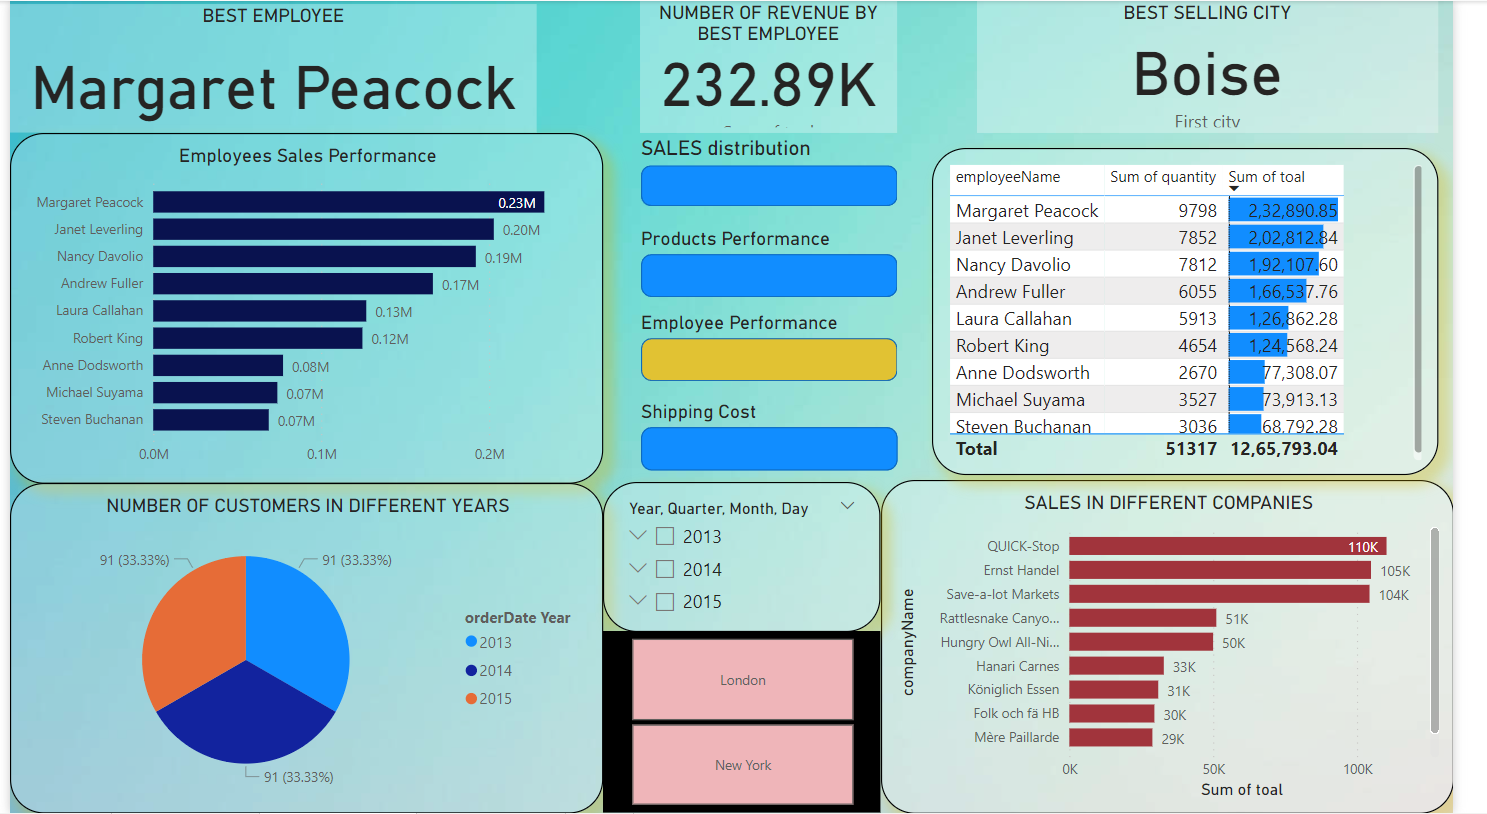

What the dashboard file says about the page in this screenshot:
{"tool":"powerbi","page":{"name":"Employee Dashboard","canvas":[1280,720],"ordinal":2},"visuals":[{"type":"shape","title":"SALES distribution","box":[559.6,119.8,227.5,62.2],"z":0},{"type":"shape","title":"Products Performance","box":[559.6,200.2,227.5,62.2],"z":1000},{"type":"shape","title":"Employee Performance","box":[559.6,274.5,227.5,62.2],"z":2000},{"type":"shape","title":"Shipping Cost","box":[559.8,353.6,227.6,62.6],"z":3000},{"type":"barChart","title":"Employees Sales Performance","fields":{"Category":["employees.employeeName"],"Y":["Sum(order_details.toal)"]},"box":[0,116.8,526.3,310.9],"z":4000},{"type":"barChart","title":"SALES IN DIFFERENT COMPANIES","fields":{"Category":["customers.companyName"],"Y":["Sum(order_details.toal)"]},"box":[771.9,424.6,508.1,295.7],"z":5000},{"type":"pieChart","title":"NUMBER OF CUSTOMERS IN DIFFERENT YEARS ","fields":{"Category":["orders.orderDate.Variation.Date Hierarchy.Year","orders.orderDate.Variation.Date Hierarchy.Quarter","orders.orderDate.Variation.Date Hierarchy.Month","orders.orderDate.Variation.Date Hierarchy.Day"],"Y":["Count(customers.customerID)"]},"box":[0,427.7,526.3,292.7],"z":6000},{"type":"tableEx","fields":{"Values":["employees.employeeName","Sum(order_details.quantity)","Sum(order_details.toal)"]},"box":[817.2,130.4,448.5,290.1],"z":7000},{"type":"card","title":"BEST EMPLOYEE","fields":{"Values":["Min(employees.employeeName)"]},"box":[0,2.7,467.1,114.5],"z":8000},{"type":"card","title":"NUMBER OF REVENUE BY BEST EMPLOYEE","fields":{"Values":["Sum(order_details.toal)"]},"box":[559,0,227.6,117.1],"z":9000},{"type":"card","title":"BEST SELLING CITY","fields":{"Values":["Min(customers.city)"]},"box":[857.1,0,408.6,117.1],"z":10000},{"type":"slicer","fields":{"Values":["orders.orderDate.Variation.Date Hierarchy.Year","orders.orderDate.Variation.Date Hierarchy.Quarter","orders.orderDate.Variation.Date Hierarchy.Month","orders.orderDate.Variation.Date Hierarchy.Day"]},"box":[526.3,426.2,245.7,133.5],"z":11000},{"type":"slicer","fields":{"Values":["employees.city"]},"box":[526,559,246,161],"z":12000}]}

Visuals, with their boxes in screenshot pixels (x1, y1, x2, y2), scaled from the page's 1280x720 canvas onto the 1487x814 screenshot:
"SALES distribution" shape: [x1=650, y1=135, x2=914, y2=206]
"Products Performance" shape: [x1=650, y1=226, x2=914, y2=297]
"Employee Performance" shape: [x1=650, y1=310, x2=914, y2=381]
"Shipping Cost" shape: [x1=650, y1=400, x2=915, y2=471]
"Employees Sales Performance" barChart: [x1=0, y1=132, x2=611, y2=484]
"SALES IN DIFFERENT COMPANIES" barChart: [x1=897, y1=480, x2=1486, y2=813]
"NUMBER OF CUSTOMERS IN DIFFERENT YEARS " pieChart: [x1=0, y1=484, x2=611, y2=813]
tableEx - employees.employeeName x Sum(order_details.quantity): [x1=949, y1=147, x2=1470, y2=475]
"BEST EMPLOYEE" card: [x1=0, y1=3, x2=543, y2=133]
"NUMBER OF REVENUE BY BEST EMPLOYEE" card: [x1=649, y1=0, x2=914, y2=132]
"BEST SELLING CITY" card: [x1=996, y1=0, x2=1470, y2=132]
slicer - orders.orderDate.Variation.Date Hierarchy.Year x orders.orderDate.Variation.Date Hierarchy.Quarter: [x1=611, y1=482, x2=897, y2=633]
slicer - employees.city: [x1=611, y1=632, x2=897, y2=813]
